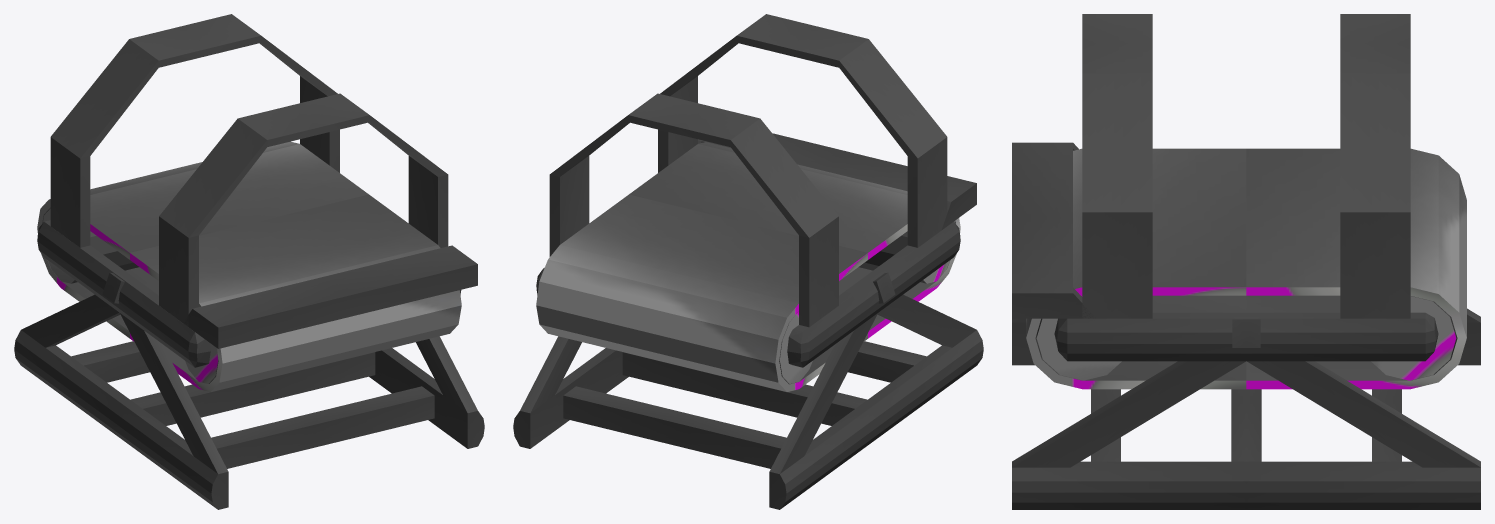
File: conveyor_hs.obj
3 renders of one model, left to right at view 1: azimuth 30°, elevation 25°; view 2: azimuth 150°, elevation 25°; view 3: azimuth 270°, elevation 25°, orthographic. The views are drawn at different scales.
Parts seen in each view (by area): view 1: Support_Alu_smdl_alu, ConveyorHighThroughput_Framing_Alu_chtpmdl_alu, ConveyorRoundEnd_crmdl, ConveyorRoundBegin_crmdl, ConveyorRoundEndCap_Alu_cecmdl_alu, ConveyorRoundEnd_Framing_Alu_crfmdl_alu, ConveyorRoundBegin_Framing_Alu_crfmdl_alu, ConveyorRoundBegin_Walz_Alu_cwalzmdl_alu, ConveyorRoundEnd_Walz_Alu_cwalzmdl_alu; view 2: ConveyorRoundBegin_crmdl, Support_Alu_smdl_alu, ConveyorHighThroughput_Framing_Alu_chtpmdl_alu, ConveyorRoundEnd_crmdl, ConveyorRoundEndCap_Alu_cecmdl_alu, ConveyorRoundBegin_Framing_Alu_crfmdl_alu, ConveyorRoundEnd_Framing_Alu_crfmdl_alu, ConveyorRoundEnd_Walz_Alu_cwalzmdl_alu, ConveyorRoundBegin_Walz_Alu_cwalzmdl_alu; view 3: ConveyorHighThroughput_Framing_Alu_chtpmdl_alu, Support_Alu_smdl_alu, ConveyorRoundBegin_crmdl, ConveyorRoundEnd_crmdl, ConveyorRoundEndCap_Alu_cecmdl_alu, ConveyorRoundBegin_Framing_Alu_crfmdl_alu, ConveyorRoundEnd_Framing_Alu_crfmdl_alu, ConveyorRoundBegin_Walz_Alu_cwalzmdl_alu, ConveyorRoundEnd_Walz_Alu_cwalzmdl_alu, ConveyorDirectionMarker_Alu_cdmdl_alu.
Part boxes in pixels (<box>): Support_Alu_smdl_alu: <box>14,294,484,509</box>; ConveyorHighThroughput_Framing_Alu_chtpmdl_alu: <box>50,14,448,326</box>; ConveyorRoundEnd_crmdl: <box>130,194,461,391</box>; ConveyorRoundBegin_crmdl: <box>37,141,368,338</box>; ConveyorRoundEndCap_Alu_cecmdl_alu: <box>183,245,477,348</box>; ConveyorRoundEnd_Framing_Alu_crfmdl_alu: <box>114,274,461,367</box>; ConveyorRoundBegin_Framing_Alu_crfmdl_alu: <box>37,220,129,311</box>; ConveyorRoundBegin_Walz_Alu_cwalzmdl_alu: <box>43,208,138,283</box>; ConveyorRoundEnd_Walz_Alu_cwalzmdl_alu: <box>185,343,218,383</box>; ConveyorRoundBegin_crmdl: <box>536,194,867,391</box>; Support_Alu_smdl_alu: <box>513,294,983,509</box>; ConveyorHighThroughput_Framing_Alu_chtpmdl_alu: <box>549,14,947,327</box>; ConveyorRoundEnd_crmdl: <box>629,142,960,338</box>; ConveyorRoundEndCap_Alu_cecmdl_alu: <box>698,133,976,229</box>; ConveyorRoundBegin_Framing_Alu_crfmdl_alu: <box>536,267,883,367</box>; ConveyorRoundEnd_Framing_Alu_crfmdl_alu: <box>868,221,960,311</box>; ConveyorRoundEnd_Walz_Alu_cwalzmdl_alu: <box>859,221,954,283</box>; ConveyorRoundBegin_Walz_Alu_cwalzmdl_alu: <box>779,311,812,383</box>; ConveyorHighThroughput_Framing_Alu_chtpmdl_alu: <box>1082,14,1410,318</box>; Support_Alu_smdl_alu: <box>1012,308,1480,509</box>; ConveyorRoundBegin_crmdl: <box>1246,148,1466,389</box>; ConveyorRoundEnd_crmdl: <box>1026,148,1246,389</box>; ConveyorRoundEndCap_Alu_cecmdl_alu: <box>1012,142,1095,318</box>; ConveyorRoundBegin_Framing_Alu_crfmdl_alu: <box>1246,312,1438,361</box>; ConveyorRoundEnd_Framing_Alu_crfmdl_alu: <box>1054,312,1246,361</box>; ConveyorRoundBegin_Walz_Alu_cwalzmdl_alu: <box>1371,296,1456,380</box>; ConveyorRoundEnd_Walz_Alu_cwalzmdl_alu: <box>1036,296,1121,380</box>; ConveyorDirectionMarker_Alu_cdmdl_alu: <box>1232,319,1260,347</box>.
Bounding box in the file's own units: 0.826 × 0.92 × 1.
